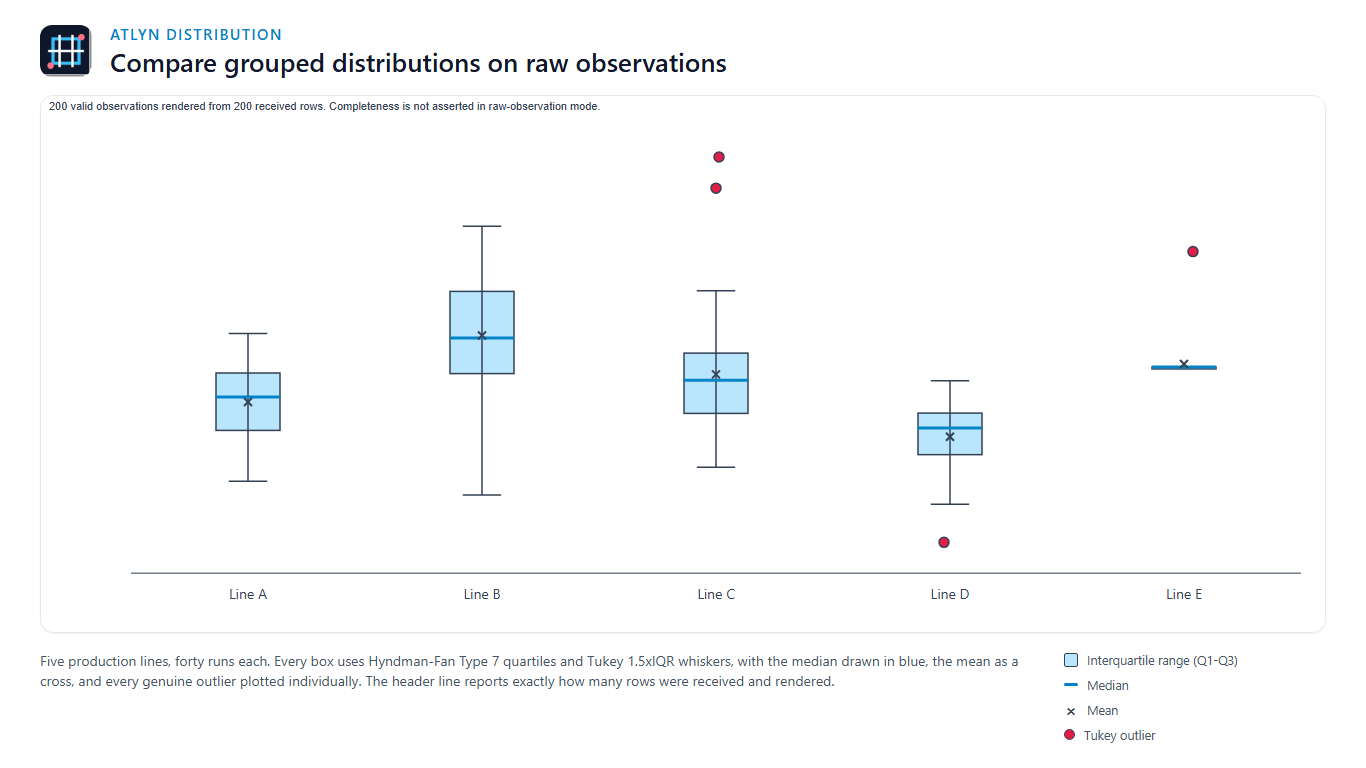

The page's visual inventory and layout, read from the dashboard file:
{"tool":"powerbi","page":{"name":"Cycle time distribution","canvas":[1280,720],"ordinal":0},"visuals":[{"type":"atlynDistributionA1B2C3D4E5F6G7H8I9J0","title":"Cycle time distribution by production line","fields":{"Category":["Measurements.Category"],"Sample":["Measurements.Sample"],"Value":["Sum(Measurements.Value)"]},"box":[40,40,1200,620],"z":0}]}

Visuals, with their boxes in screenshot pixels (x1, y1, x2, y2), scaled from the page's 1280x720 canvas onto the 1366x768 screenshot:
"Cycle time distribution by production line" atlynDistributionA1B2C3D4E5F6G7H8I9J0: [43,43,1323,704]
